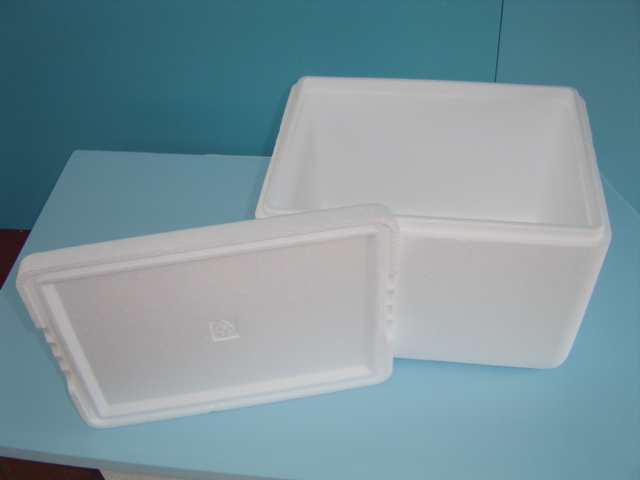Boxes: (17, 78, 609, 425)
